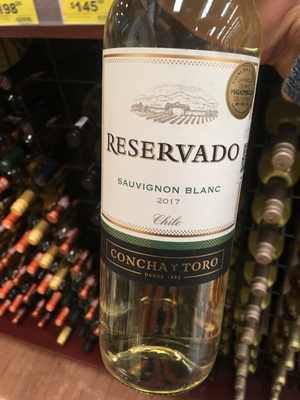reservado sauvignon blanc: (96, 12, 267, 390)
